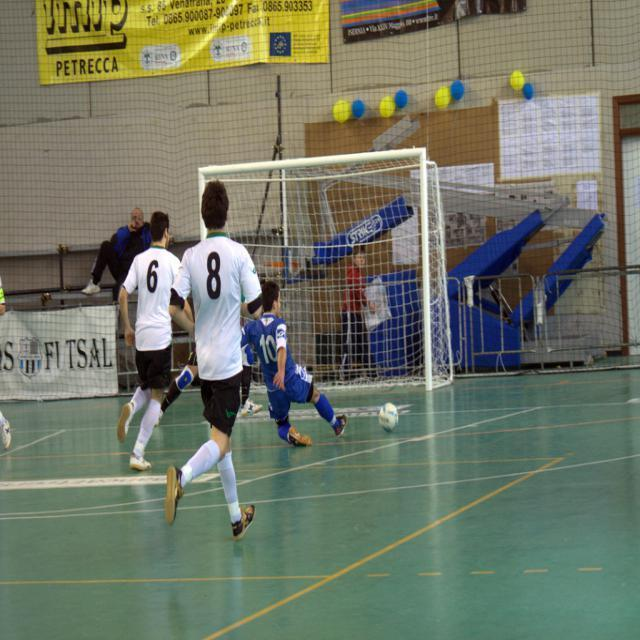ball: (376, 404, 400, 431)
